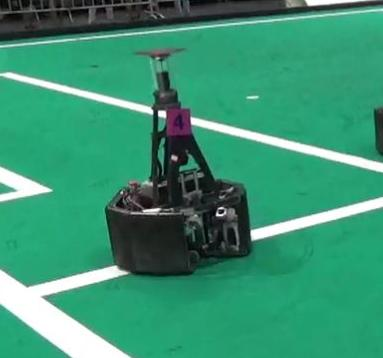robot: (103, 47, 259, 278)
